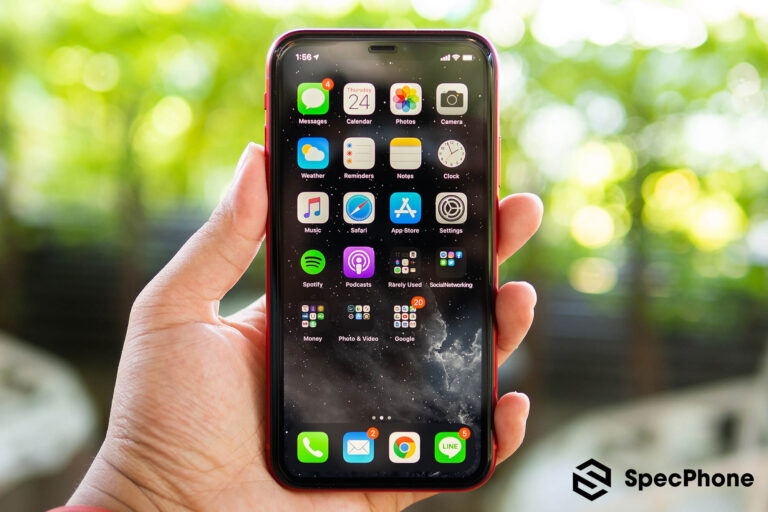Phone: (263, 27, 496, 495)
